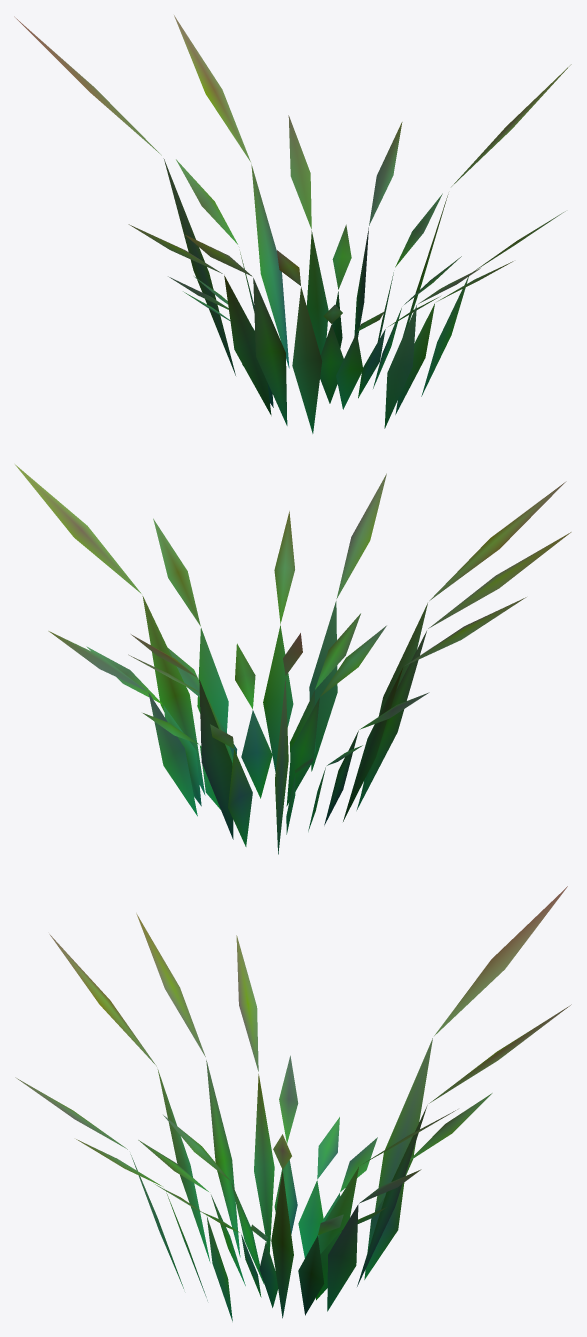
File: GrassTuft_A.fbx
3 views of the same model, one above another, from view 1: azimuth 30°, elevation 25°; view 2: azimuth 150°, elevation 25°; view 3: azimuth 270°, elevation 25° (orthographic). The views are drawn at different scales.
Parts seen in each view (by area): view 1: GrassTuft_A; view 2: GrassTuft_A; view 3: GrassTuft_A.
Part boxes in pixels (x1,y1,x2,y2): GrassTuft_A: (14, 15, 571, 433); GrassTuft_A: (15, 464, 571, 854); GrassTuft_A: (15, 886, 571, 1321).
Size of the model in its own units: 0.3208 by 0.2078 by 0.3294.
